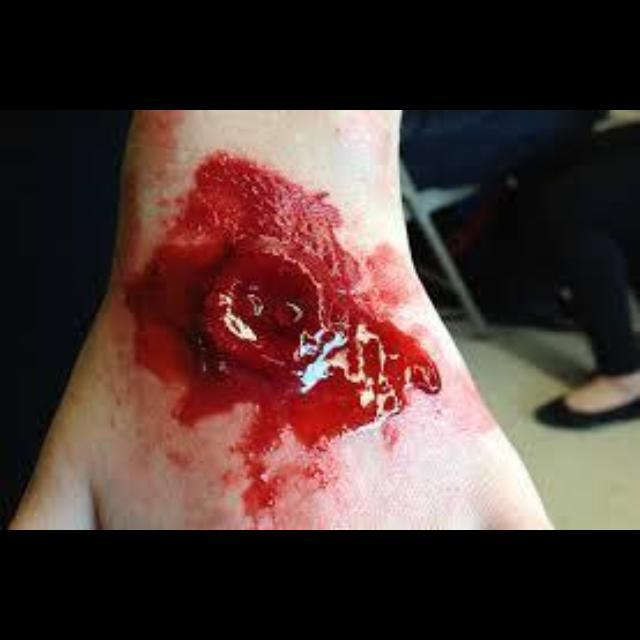blood: (122, 112, 441, 529)
